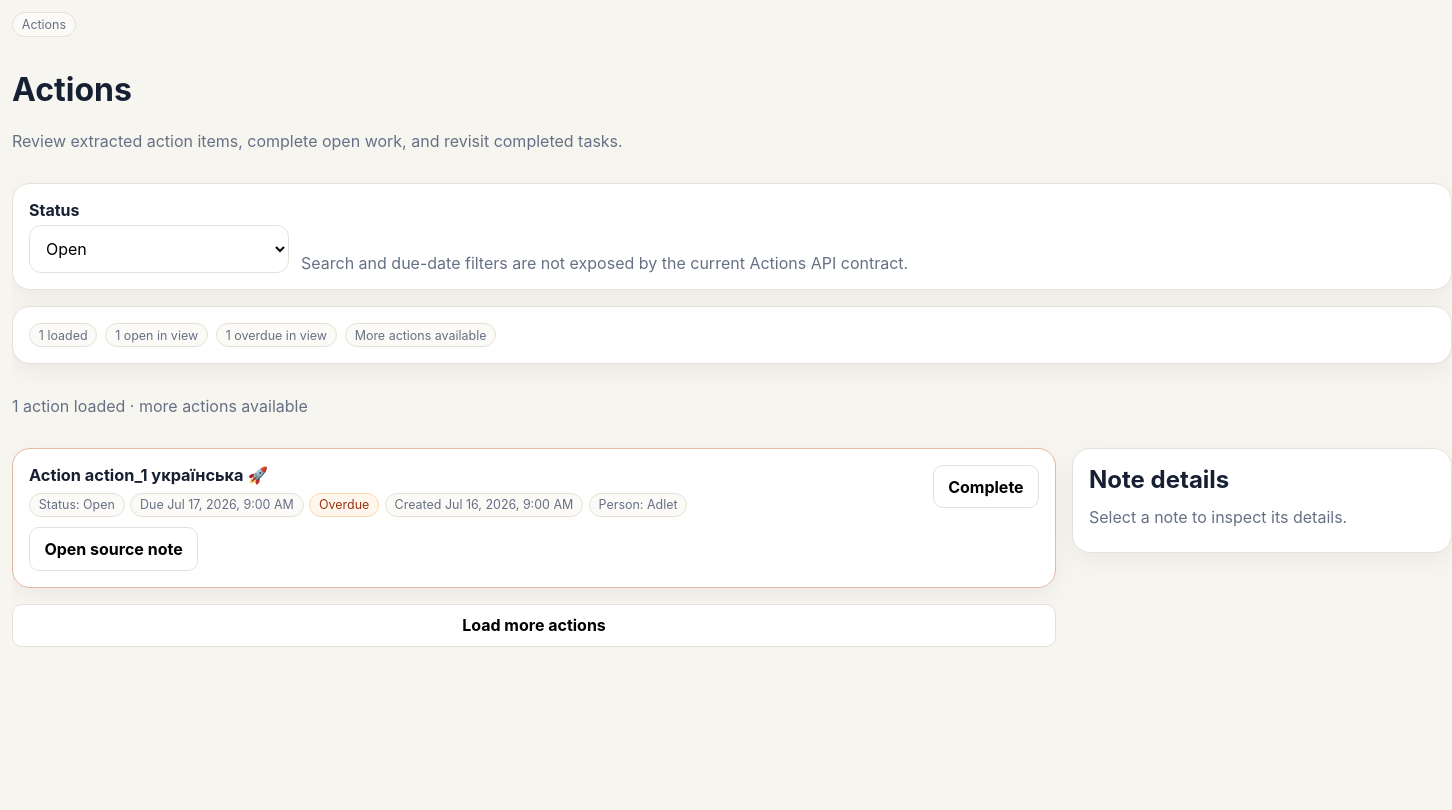
Test: ActionsPage › paginates using opaque cursor, appends, deduplicates, and blocks duplicate clicks
The image size is (1452, 810).
expect the text "Action action_1 українська 🚀" is shown: met, box [29,466,268,486]
Double-click the button "Load more actions" at (534, 626), box [12,604,1056,647]
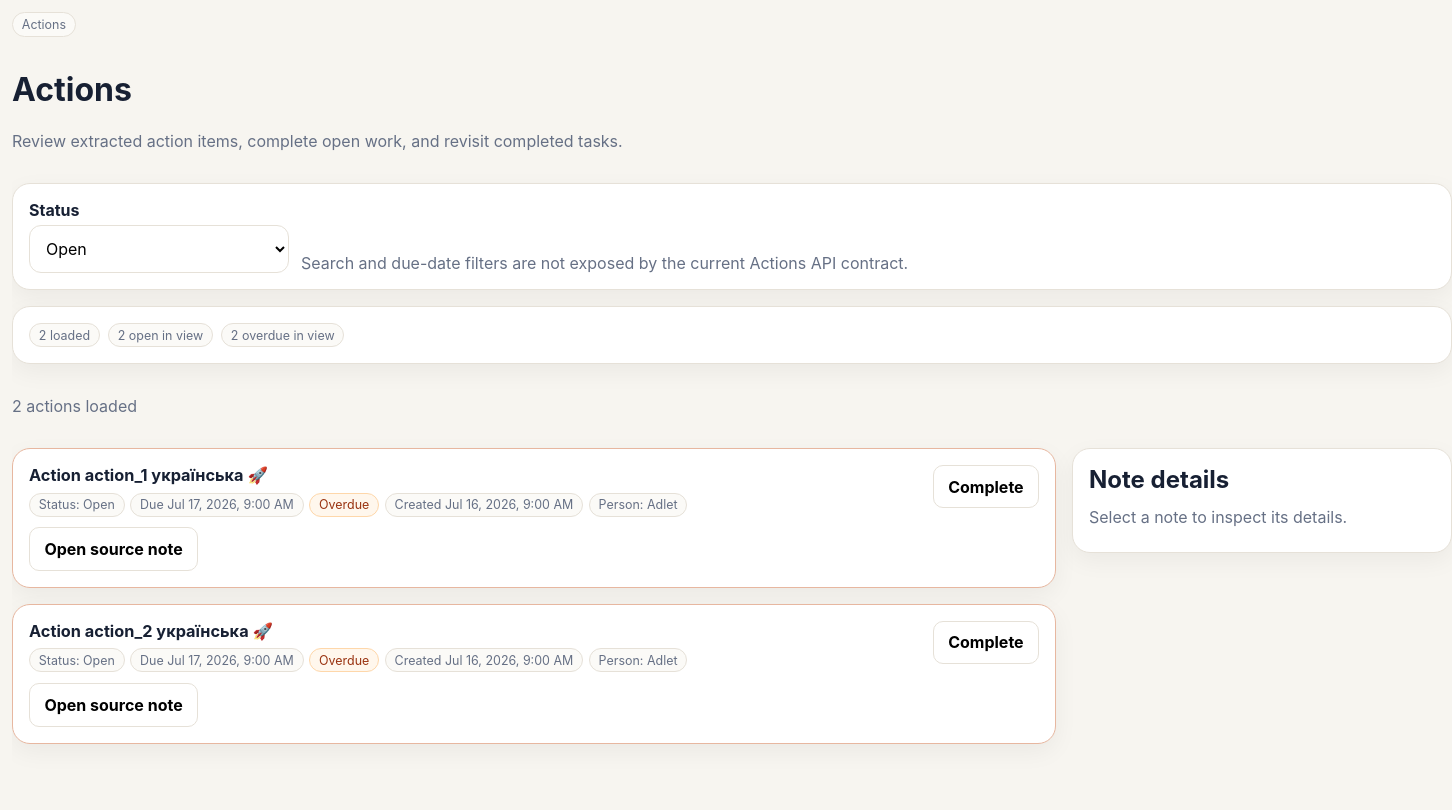
expect the text "Action action_1 українська 🚀" is shown once: met, box [29,466,268,486]
expect the text "Action action_2 українська 🚀" is shown: met, box [29,621,273,641]
